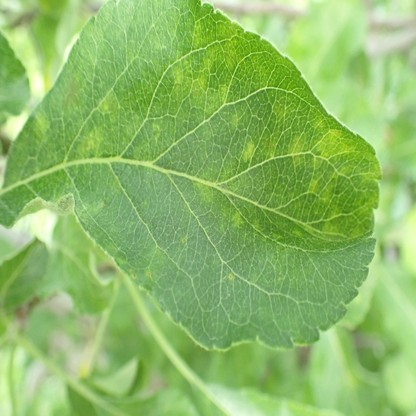scab: (33, 1, 379, 278)
